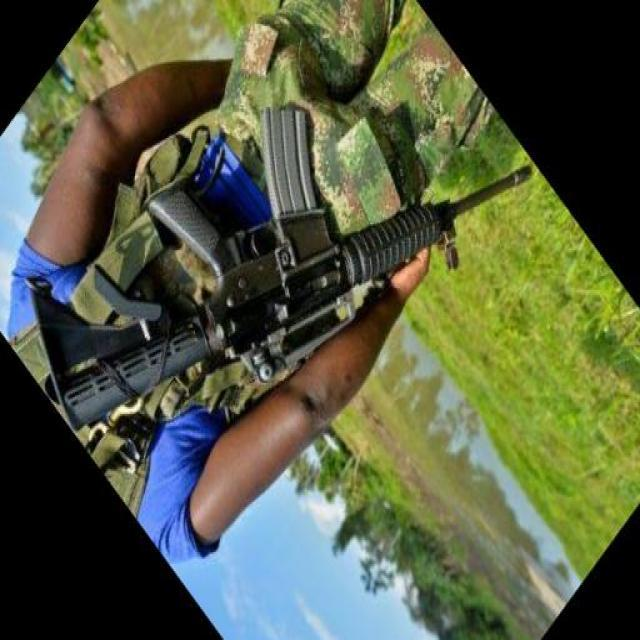weapon: (23, 105, 536, 435)
